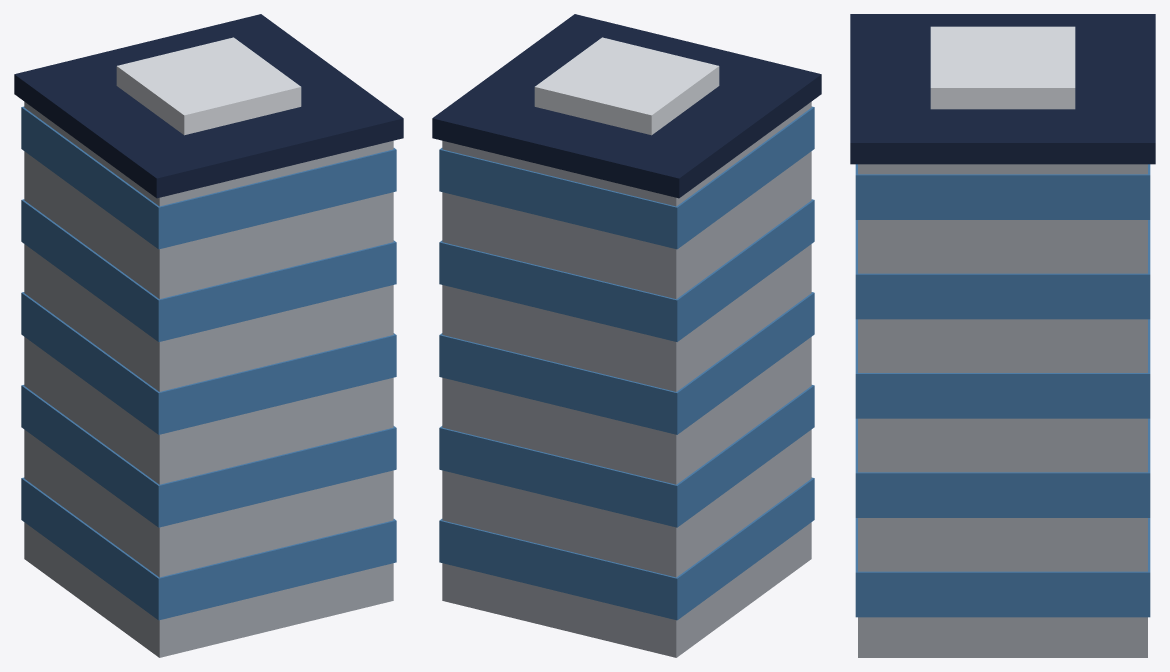
The model's file is block_2025.glb.
The picture shows the model from 3 angles, left to right: view 1: azimuth 30°, elevation 25°; view 2: azimuth 150°, elevation 25°; view 3: azimuth 270°, elevation 25°; orthographic projection. The views are drawn at different scales.
Parts seen in each view (by area): view 1: Body, Roof, Body_win_f3, Body_win_f0, Body_win_f2, Body_win_f4, Body_win_f1, Trim; view 2: Body, Roof, Body_win_f3, Body_win_f0, Body_win_f2, Body_win_f4, Body_win_f1, Trim; view 3: Body, Roof, Body_win_f0, Body_win_f3, Body_win_f2, Body_win_f1, Body_win_f4, Trim.
Part boxes in pixels (x1,y1,x2,y2): Body: (24, 102, 393, 657); Roof: (14, 14, 403, 198); Body_win_f3: (21, 199, 396, 341); Body_win_f0: (21, 477, 396, 620); Body_win_f2: (21, 292, 396, 434); Body_win_f4: (21, 106, 396, 249); Body_win_f1: (21, 385, 396, 527); Trim: (116, 37, 301, 135); Body: (442, 102, 811, 657); Roof: (432, 14, 821, 198); Body_win_f3: (439, 199, 814, 341); Body_win_f0: (439, 477, 814, 620); Body_win_f2: (439, 292, 814, 434); Body_win_f4: (439, 106, 814, 249); Body_win_f1: (439, 385, 814, 527); Trim: (534, 37, 719, 135); Body: (858, 164, 1147, 657); Roof: (850, 14, 1155, 164); Body_win_f0: (855, 518, 1150, 617); Body_win_f3: (855, 220, 1150, 319); Body_win_f2: (855, 319, 1150, 418); Body_win_f1: (855, 418, 1150, 517); Body_win_f4: (855, 164, 1150, 219); Trim: (930, 26, 1075, 109).
Bounding box in the file's own units: 0.78 × 1.52 × 0.78.
